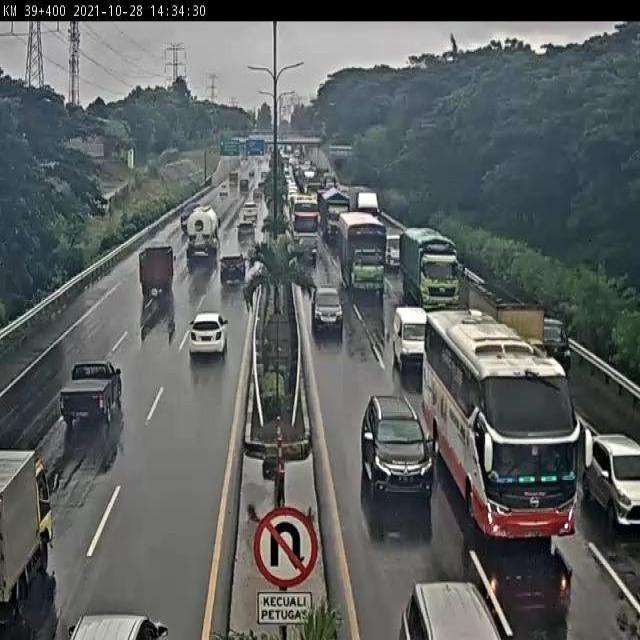big bus: (422, 309, 591, 539)
big truck: (402, 229, 462, 323), (333, 211, 386, 292)
car: (358, 391, 438, 500), (589, 432, 640, 529), (57, 360, 124, 427), (388, 301, 428, 372), (310, 281, 345, 339), (189, 313, 229, 360), (217, 250, 249, 286), (293, 231, 319, 261), (235, 229, 258, 260)
small truck: (138, 244, 179, 307), (185, 207, 222, 261)
